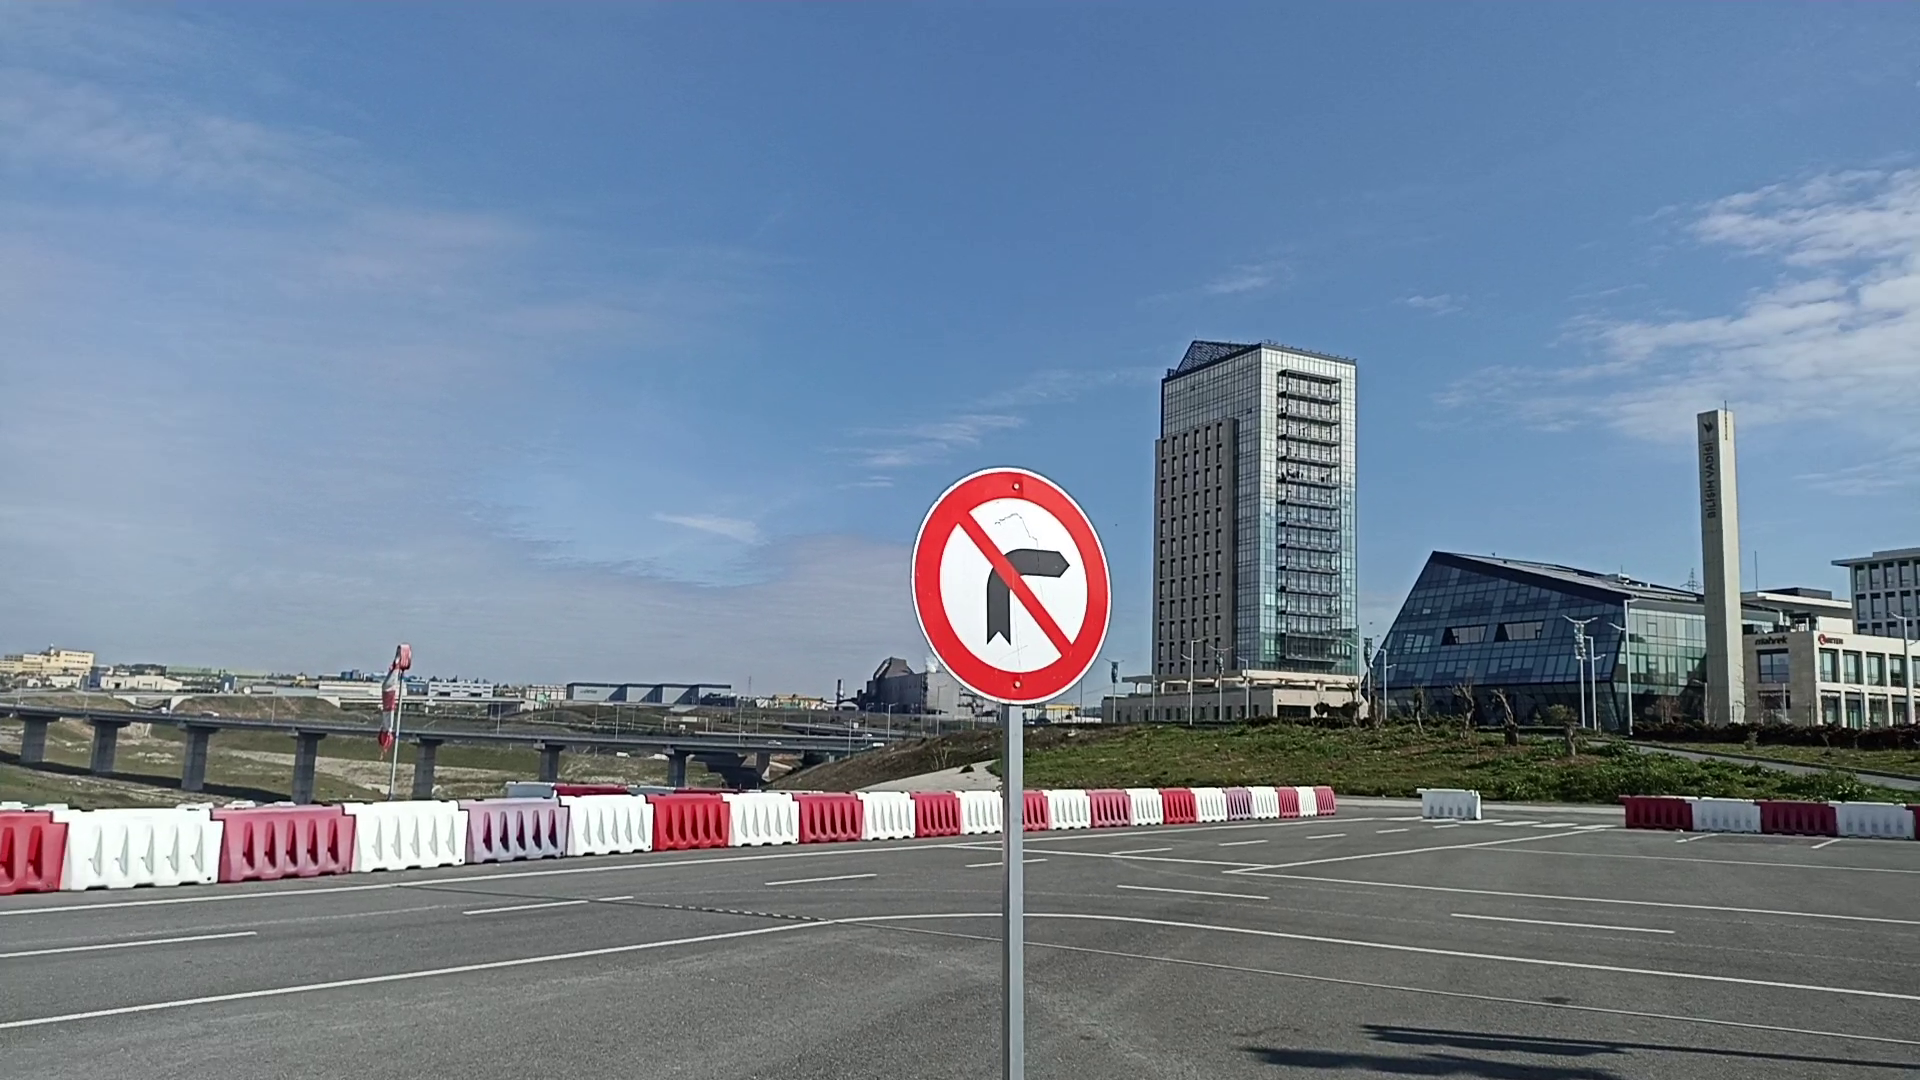noleftturn: (907, 465, 1114, 705)
